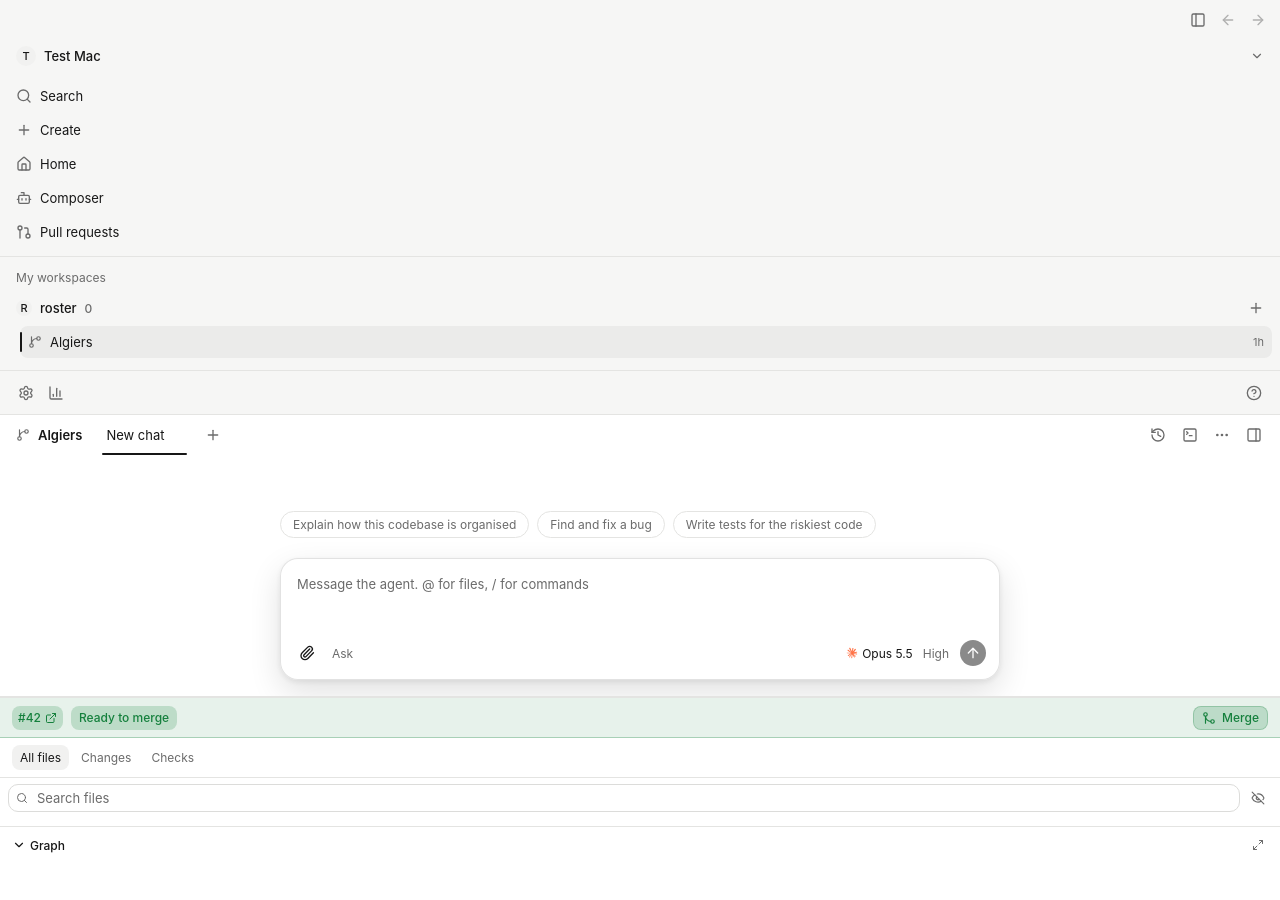
Test: next action in the top bar › shows why a merge failed
Click the button "Merge" at (1231, 718), box top-left (1193, 706), bottom-right (1268, 730)
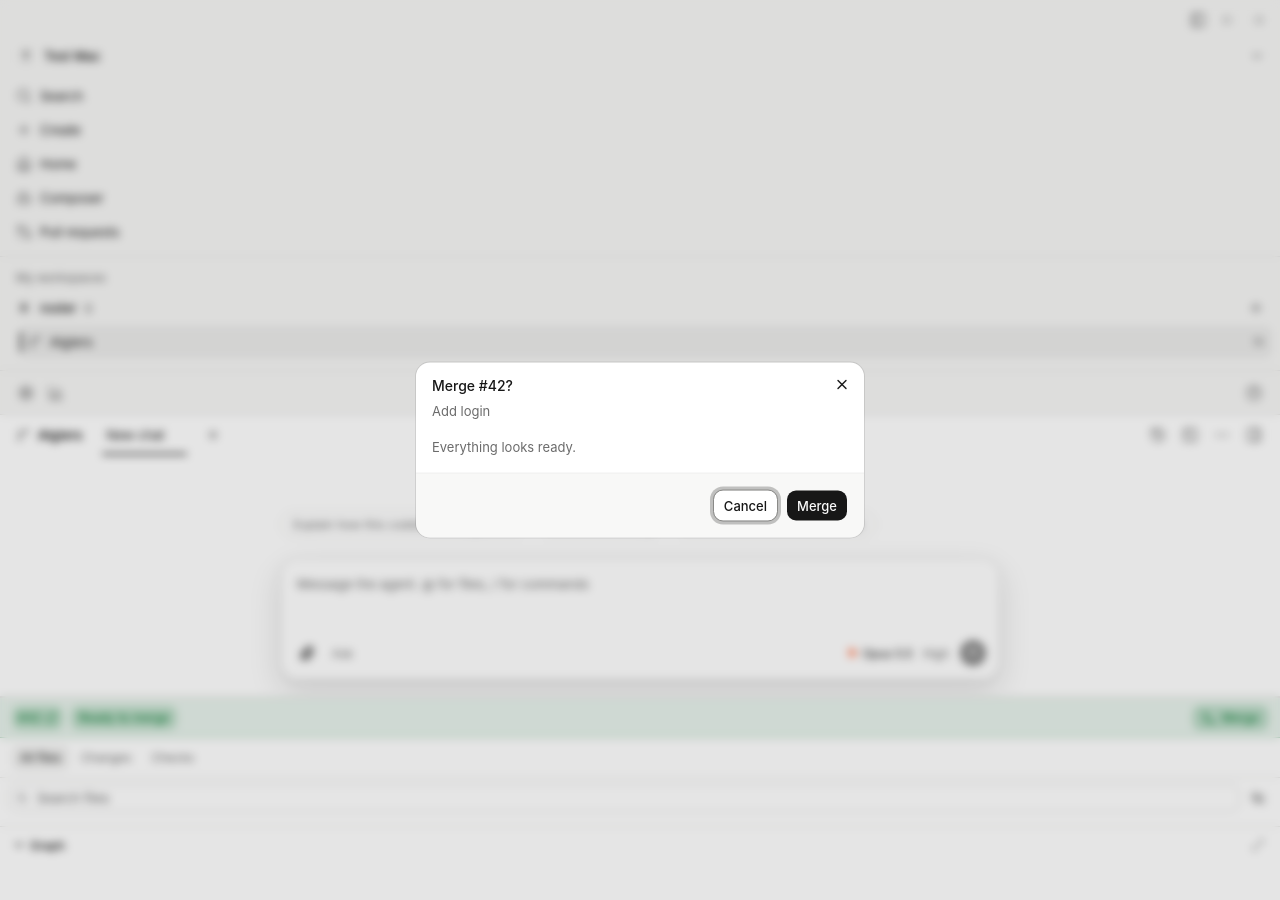
Click the button "Merge" at (817, 506), box top-left (786, 490), bottom-right (848, 522)
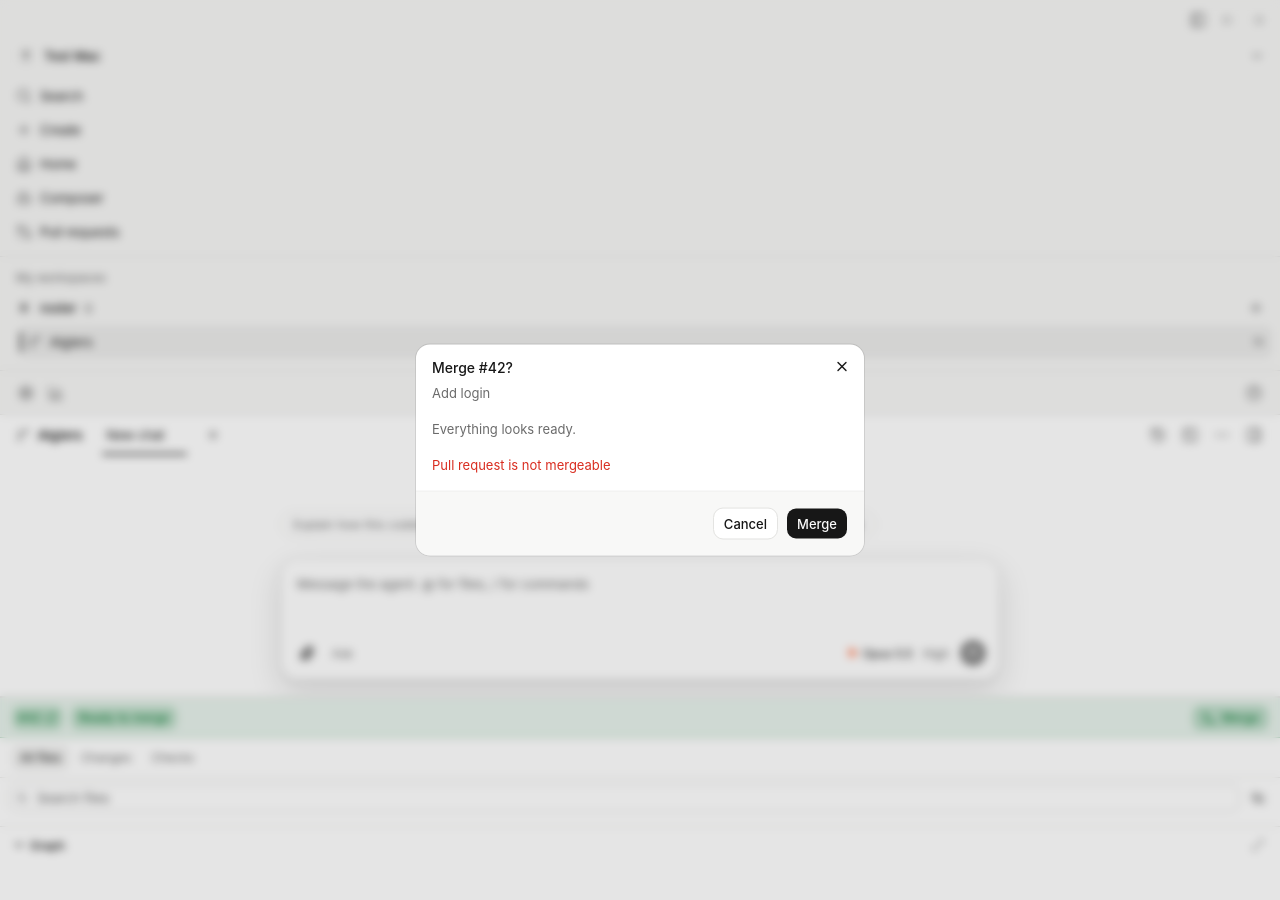
Check: the message shows "not mergeable", box top-left (432, 456), bottom-right (611, 472)
